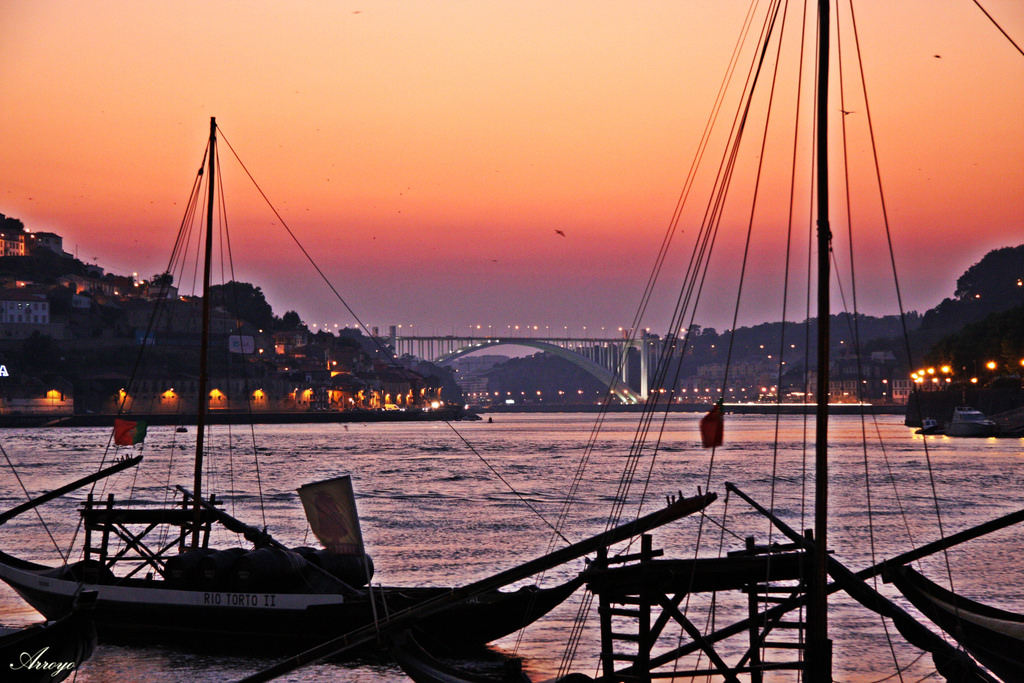arrabida: (356, 325, 678, 404)
